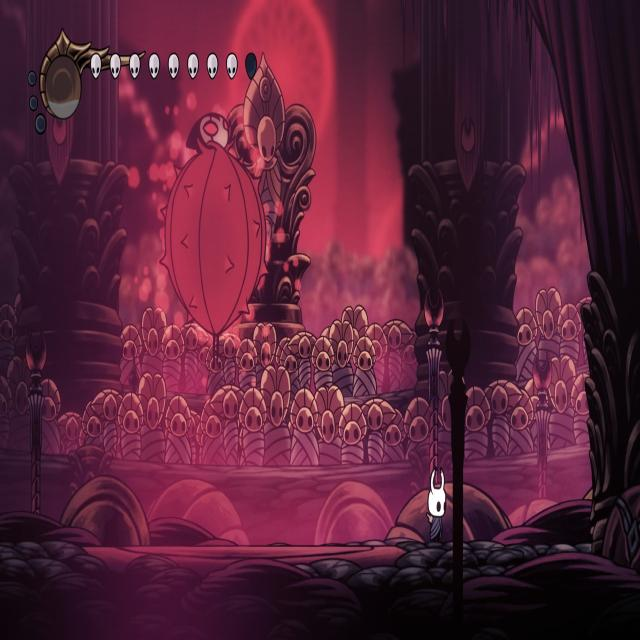Player: (424, 462, 448, 547)
Pufferfish: (157, 106, 273, 373)
